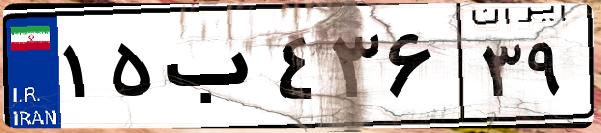1: (57, 26, 110, 100)
3: (330, 28, 385, 110), (475, 38, 525, 113)
4: (270, 28, 330, 110)
5: (110, 28, 158, 98)
6: (385, 28, 445, 110)
9: (525, 38, 570, 115)
ب: (158, 20, 270, 120)
